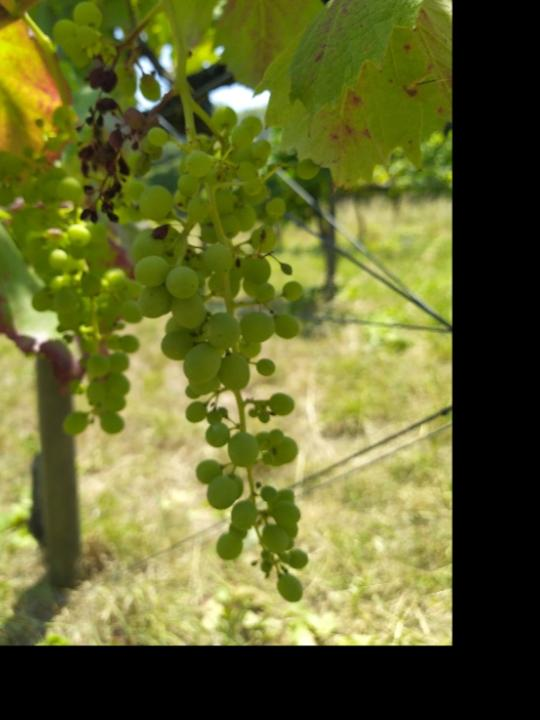grape: (120, 109, 325, 610), (61, 30, 139, 224)
